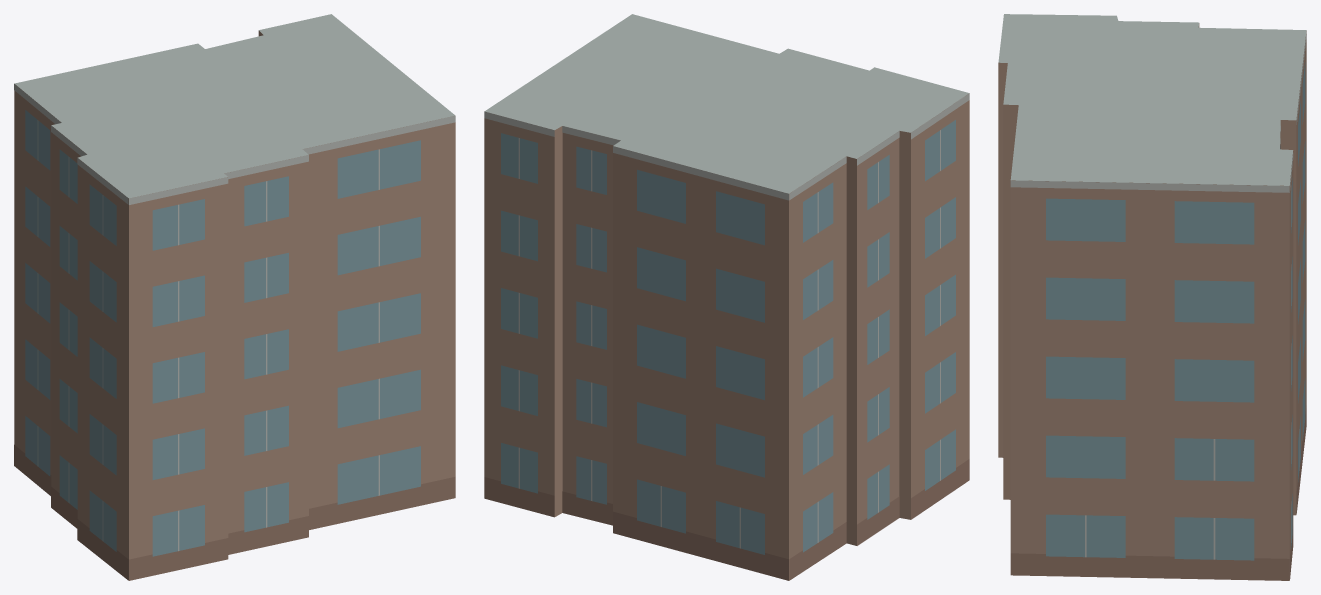
File: survey-upis-32666137.glb
3 renders of one model, left to right at view 1: azimuth 30°, elevation 25°; view 2: azimuth 150°, elevation 25°; view 3: azimuth 270°, elevation 25°, orthographic. The views are drawn at different scales.
Parts seen in each view (by area): view 1: survey-upis-32666137.tmp; view 2: survey-upis-32666137.tmp; view 3: survey-upis-32666137.tmp.
Part boxes in pixels (x1,y1,x2,y2): survey-upis-32666137.tmp: (14,14,455,580); survey-upis-32666137.tmp: (484,14,969,580); survey-upis-32666137.tmp: (998,14,1306,580).
Size of the model in its own units: 12.98 by 13.9 by 9.84.
